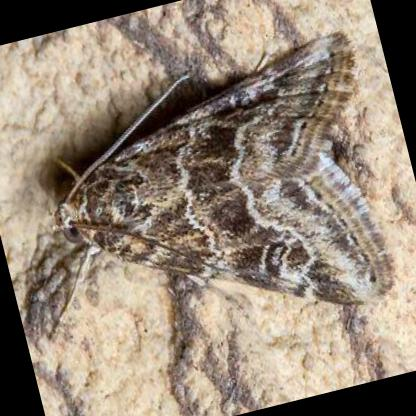Hellula undalis: (44, 25, 398, 346)
